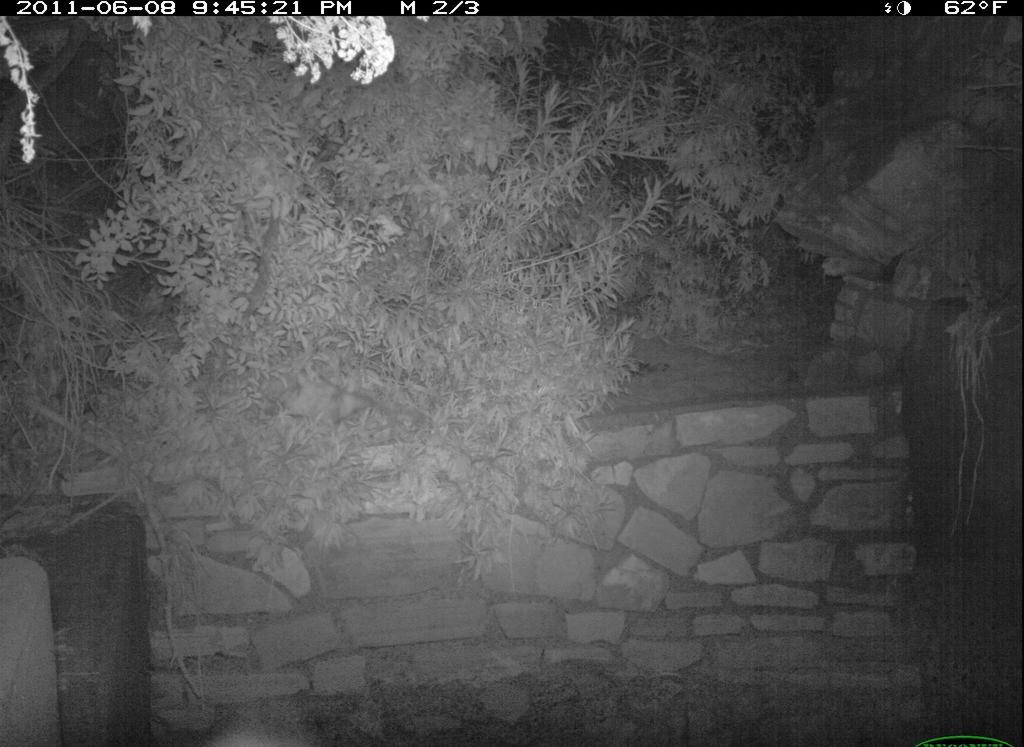opossum: (262, 351, 449, 428)
